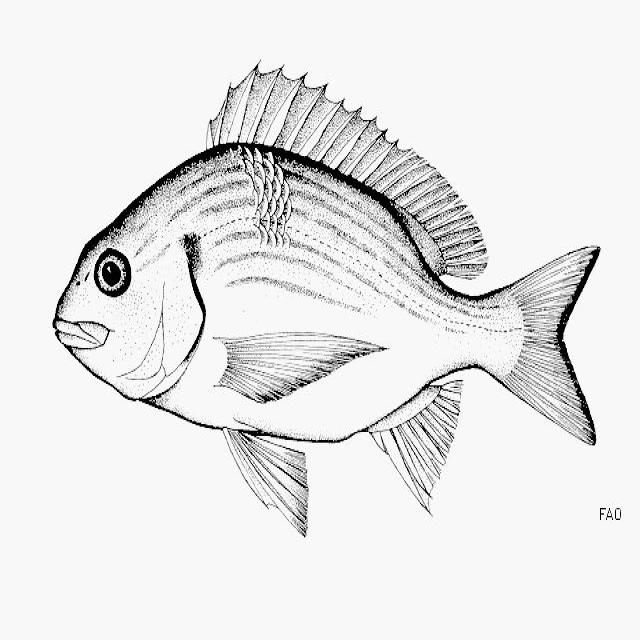ikan: (51, 59, 601, 537)
